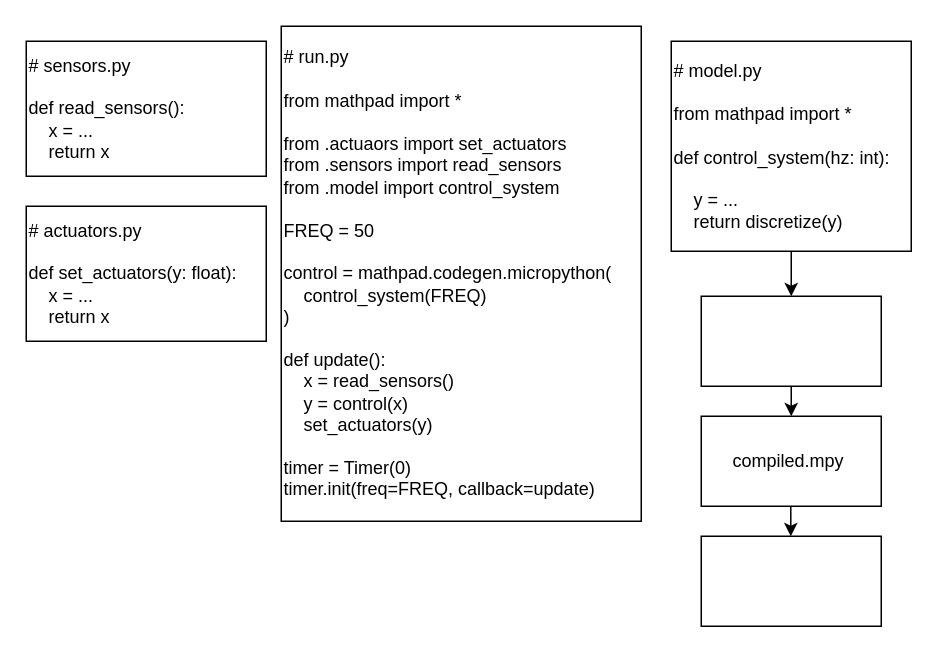
The diagram is 938 pixels wide and 653 high, and some of its shapes have lost their labels. Here are the shapes that lost their labels. From the top down, the box of each, then its label:
(700, 295, 881, 386): source.c
(700, 535, 881, 626): control(x)
